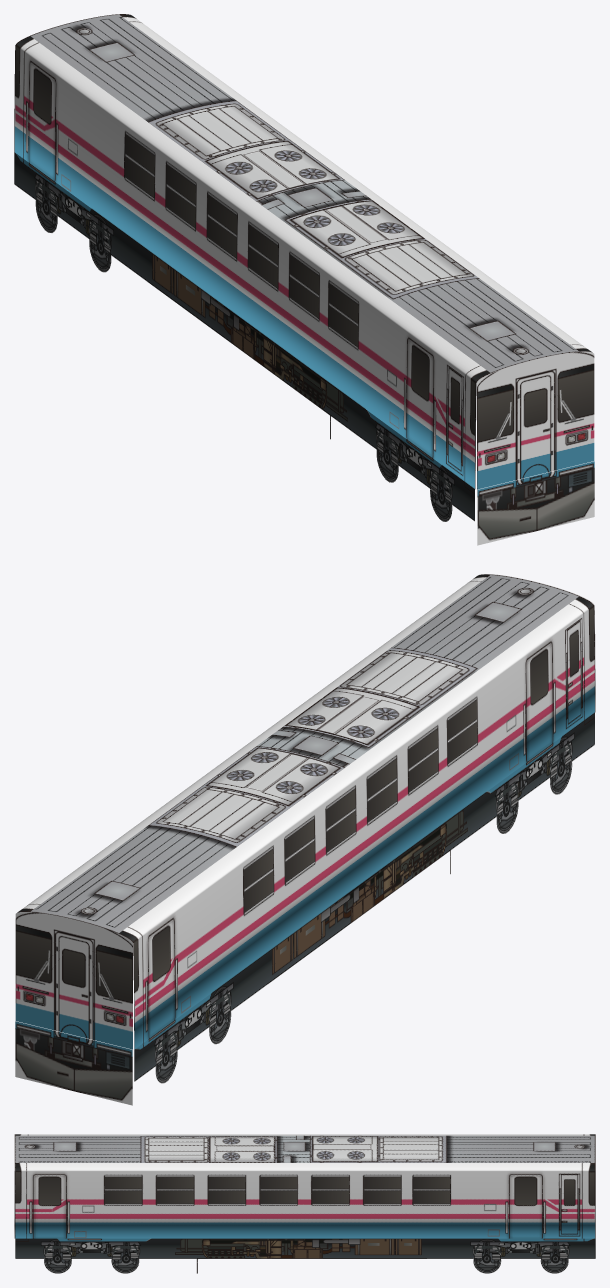
File: car1.glb
3 views of the same model, one above another, from view 1: azimuth 30°, elevation 25°; view 2: azimuth 150°, elevation 25°; view 3: azimuth 270°, elevation 25° (orthographic). The views are drawn at different scales.
Visible parts, largest first — view 1: tarumi-295-car1; view 2: tarumi-295-car1; view 3: tarumi-295-car1.
Boxes of the visible parts, x1,y1,x2,y2 form: tarumi-295-car1: (14,14,594,545); tarumi-295-car1: (15,574,595,1105); tarumi-295-car1: (14,1134,595,1273).
Size of the model in its own units: 2.7 by 3.69 by 18.03.
7 materials, 6 textured.
